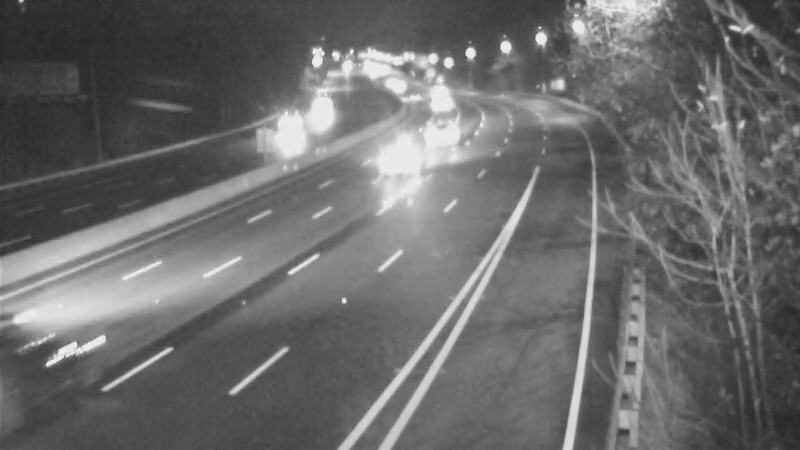vehicle: (1, 315, 99, 425), (366, 116, 446, 196), (373, 61, 423, 111), (413, 66, 463, 116), (395, 71, 445, 121), (419, 78, 469, 128), (421, 109, 471, 159), (265, 105, 315, 155), (299, 84, 349, 134)
